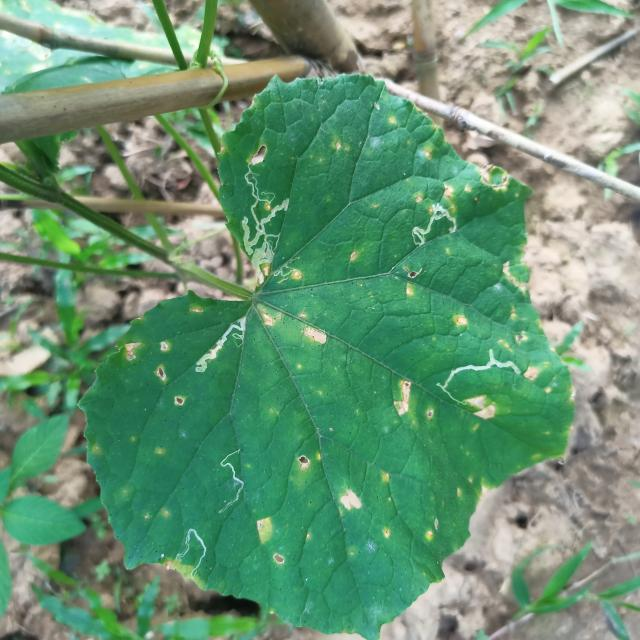disease_cucumber: (120, 341, 185, 412), (493, 262, 544, 351), (440, 157, 514, 207), (522, 352, 580, 407), (260, 305, 332, 348), (389, 380, 436, 428), (256, 516, 289, 570), (465, 393, 498, 428), (339, 487, 368, 515), (400, 264, 424, 296), (297, 451, 323, 477), (381, 471, 396, 504), (422, 515, 440, 541), (450, 312, 470, 330), (332, 140, 352, 155), (417, 148, 436, 162), (189, 305, 205, 317), (261, 264, 272, 280), (291, 270, 304, 283), (154, 446, 166, 457)
